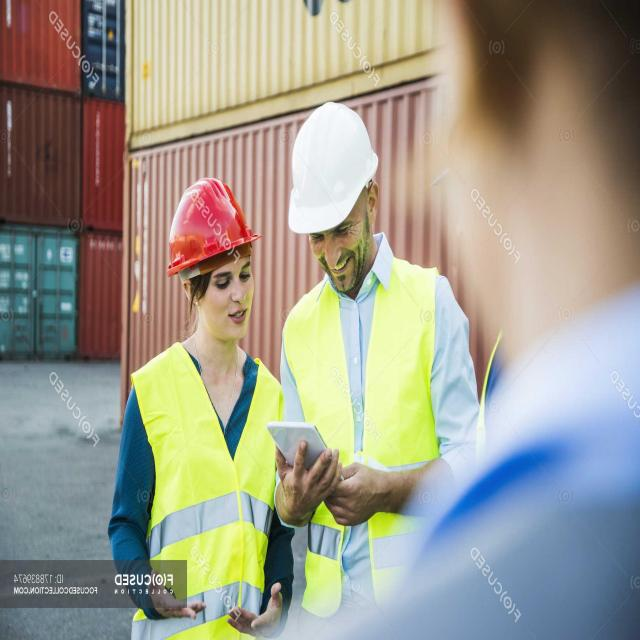Reflective-Jacket: (289, 252, 448, 614), (129, 345, 285, 640)
Safety-Helmet: (283, 96, 381, 238), (165, 170, 261, 278)
